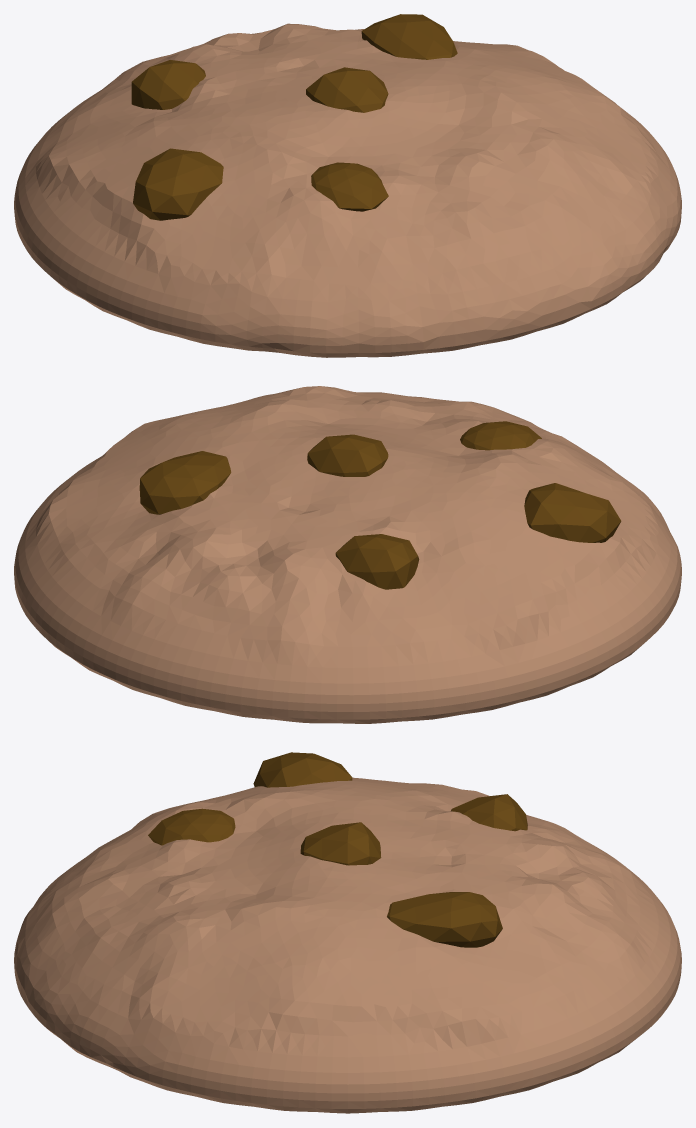
The model's file is cookiecrisp.fbx.
3 renders of one model, top to bottom at view 1: azimuth 30°, elevation 25°; view 2: azimuth 150°, elevation 25°; view 3: azimuth 270°, elevation 25°, orthographic.
Parts seen in each view (by area): view 1: Icosphere.001; view 2: Icosphere.001; view 3: Icosphere.001.
Boxes of the visible parts, left/top/right/bottom form: Icosphere.001: left=14, top=14, right=681, bottom=357; Icosphere.001: left=14, top=386, right=681, bottom=723; Icosphere.001: left=14, top=752, right=681, bottom=1113.
Bounding box in the file's own units: 198 × 54.65 × 198.
